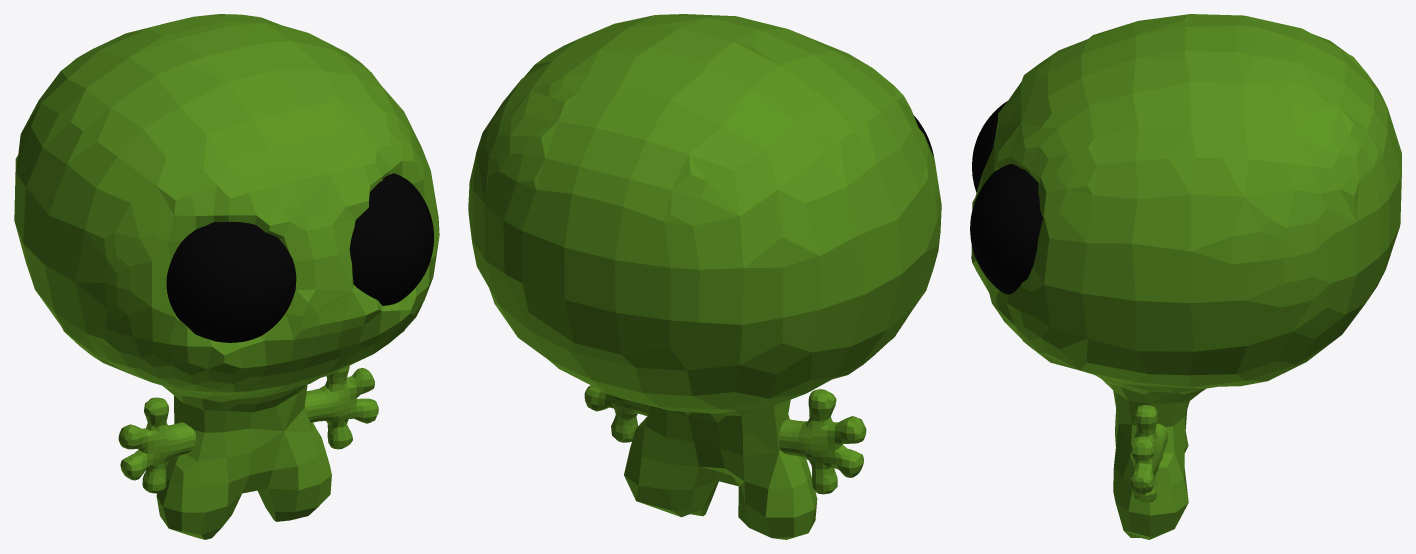
File: black_deal.glb
The picture shows the model from 3 angles, left to right: view 1: azimuth 30°, elevation 25°; view 2: azimuth 150°, elevation 25°; view 3: azimuth 270°, elevation 25°; orthographic projection. The views are drawn at different scales.
Parts seen in each view (by area): view 1: Cube.008, right eye.006, left eye.006, Vert.006, Vert.007; view 2: Cube.008, Vert.006, Vert.007; view 3: Cube.008, left eye.006, Vert.007, right eye.006.
Boxes of the visible parts, x1,y1,x2,y2 form: Cube.008: (14, 14, 439, 539); right eye.006: (166, 221, 296, 342); left eye.006: (349, 173, 433, 305); Vert.006: (118, 397, 195, 493); Vert.007: (304, 365, 378, 449); Cube.008: (468, 14, 941, 539); Vert.006: (779, 389, 866, 494); Vert.007: (584, 385, 650, 442); Cube.008: (971, 14, 1401, 539); left eye.006: (970, 164, 1043, 294); Vert.007: (1130, 405, 1167, 502); right eye.006: (972, 101, 1007, 192).
Bounding box in the file's own units: 3.06 × 3.72 × 3.09.
